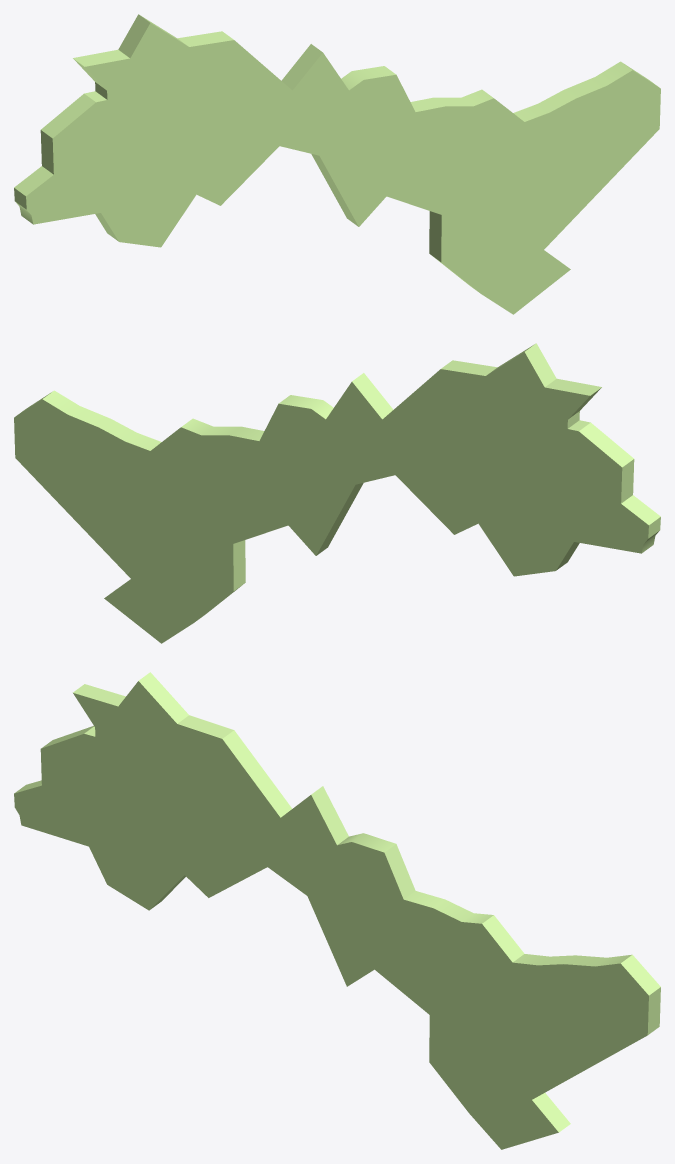
File: ocampo.fbx
3 views of the same model, one above another, from view 1: azimuth 30°, elevation 25°; view 2: azimuth 150°, elevation 25°; view 3: azimuth 330°, elevation 25° (orthographic).
Parts seen in each view (by area): view 1: ocampo; view 2: ocampo; view 3: ocampo.
Boxes of the visible parts, x1=… form: ocampo: x1=14, y1=14, x2=660, y2=314; ocampo: x1=14, y1=343, x2=660, y2=643; ocampo: x1=14, y1=672, x2=660, y2=1149.
Size of the model in its own units: 245 by 140 by 8.
